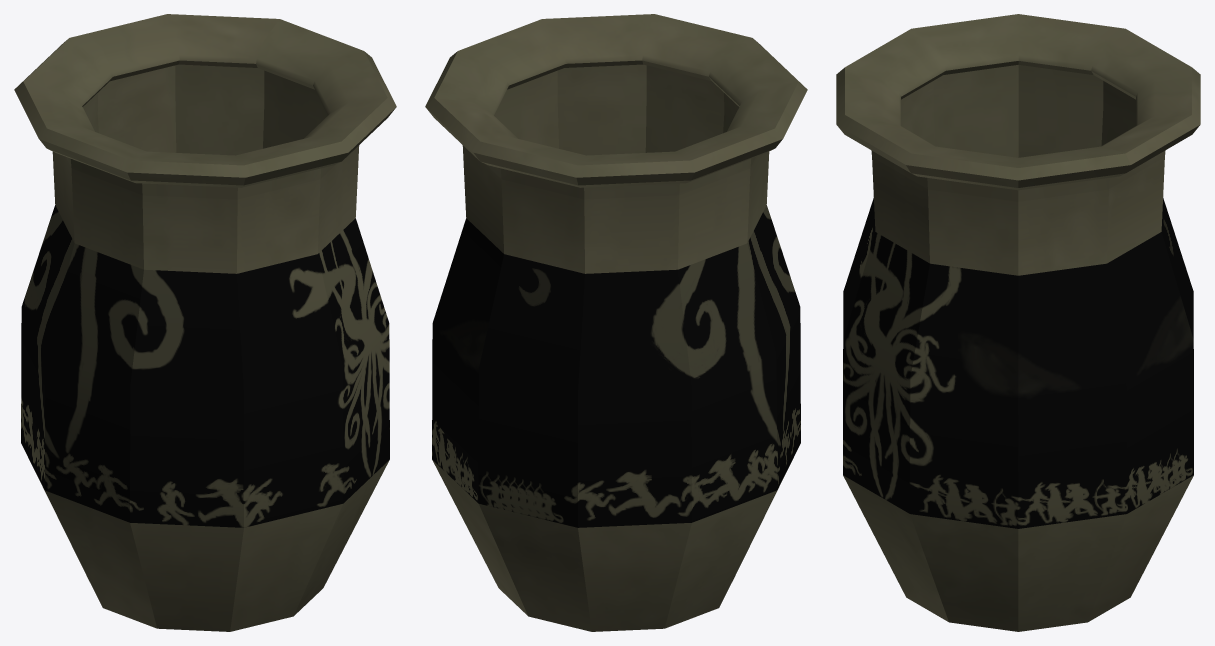
File: SM_Vase3.fbx
3 renders of one model, left to right at view 1: azimuth 30°, elevation 25°; view 2: azimuth 150°, elevation 25°; view 3: azimuth 270°, elevation 25°, orthographic.
Parts seen in each view (by area): view 1: Vase3; view 2: Vase3; view 3: Vase3.
Part boxes in pixels (x1,y1,x2,y2): Vase3: (14, 14, 396, 631); Vase3: (425, 14, 807, 631); Vase3: (836, 14, 1200, 631).
Size of the model in its own units: 2.27 by 3.2 by 2.15.
